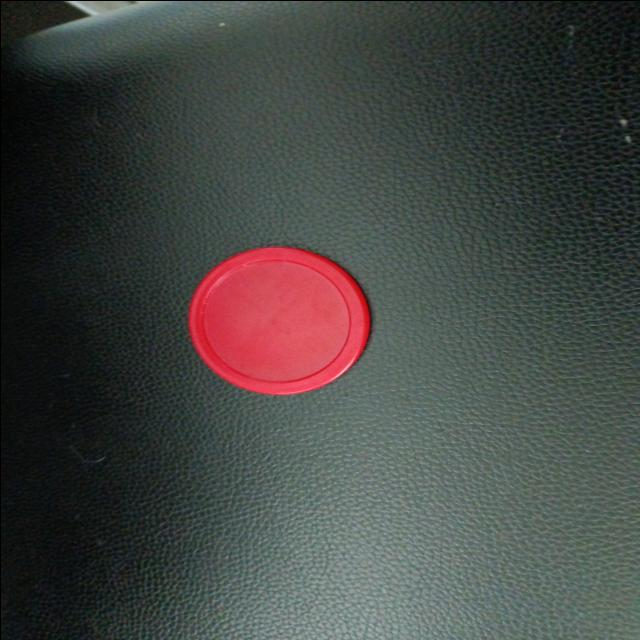chip: (182, 242, 374, 398)
